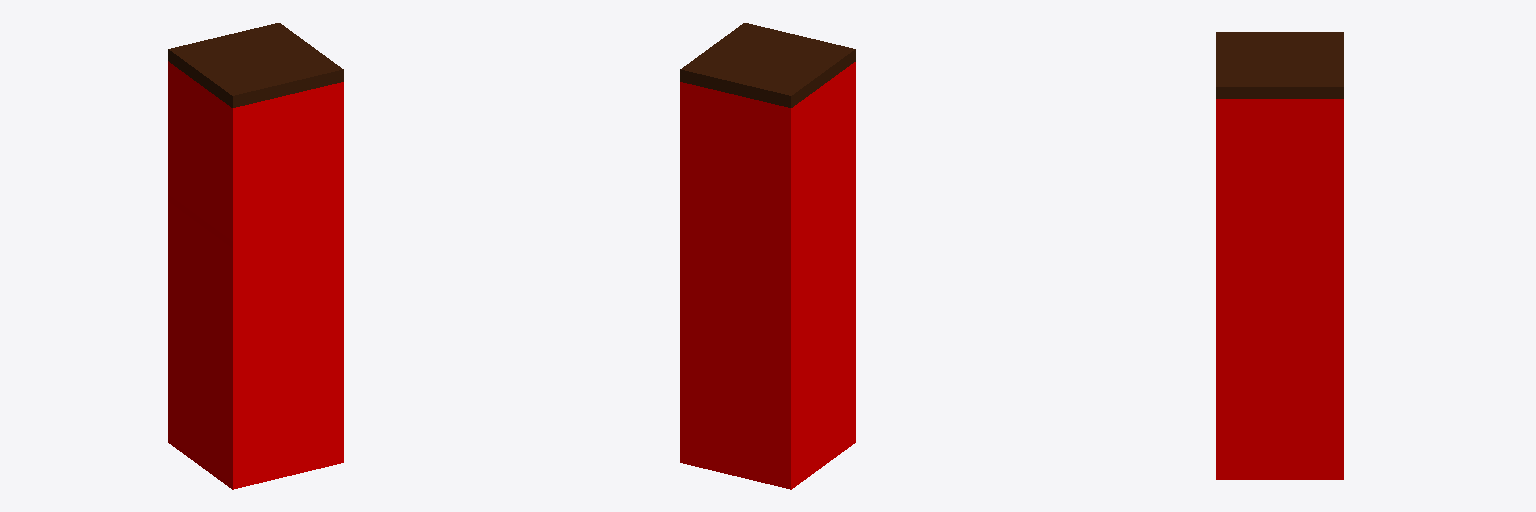
The model's file is person1.obj.
3 views of the same model, side by side, from view 1: azimuth 30°, elevation 25°; view 2: azimuth 150°, elevation 25°; view 3: azimuth 270°, elevation 25° (orthographic).
Parts seen in each view (by area): view 1: Person.001_Cube.013; view 2: Person.001_Cube.013; view 3: Person.001_Cube.013.
Part boxes in pixels (bbox=[...]): Person.001_Cube.013: bbox=[168, 23, 343, 489]; Person.001_Cube.013: bbox=[680, 23, 855, 489]; Person.001_Cube.013: bbox=[1216, 32, 1343, 479].
Bounding box in the file's own units: 0.1568 × 0.5317 × 0.1568.